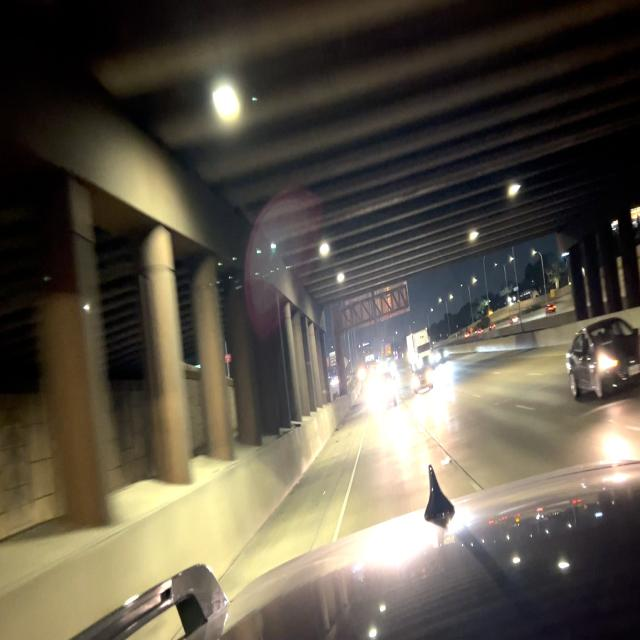back-of-sign: (339, 278, 410, 335)
